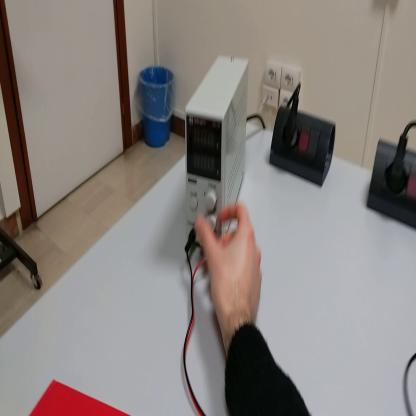hand: (195, 203, 265, 333)
power supply: (184, 51, 250, 244)
register: (30, 378, 133, 415)
socket: (269, 105, 337, 189), (368, 139, 416, 229)
